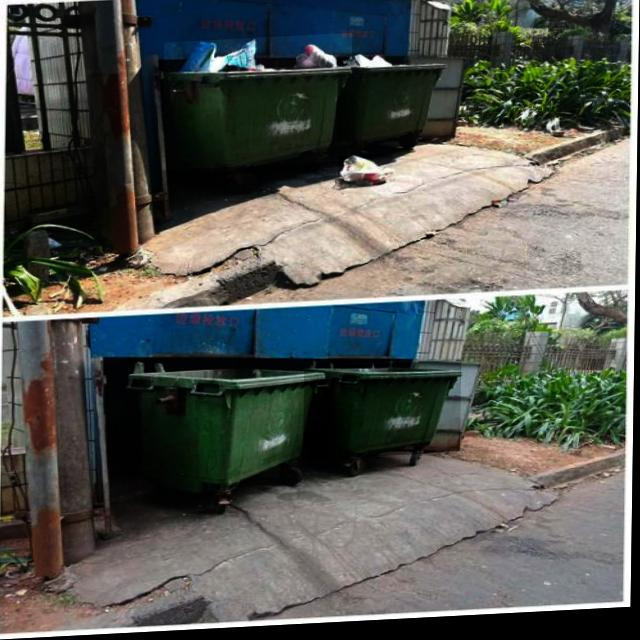garbage: (339, 158, 393, 188)
garbage_bin: (123, 355, 325, 495), (304, 365, 463, 463)
overflow: (163, 36, 352, 172), (337, 55, 446, 145)
